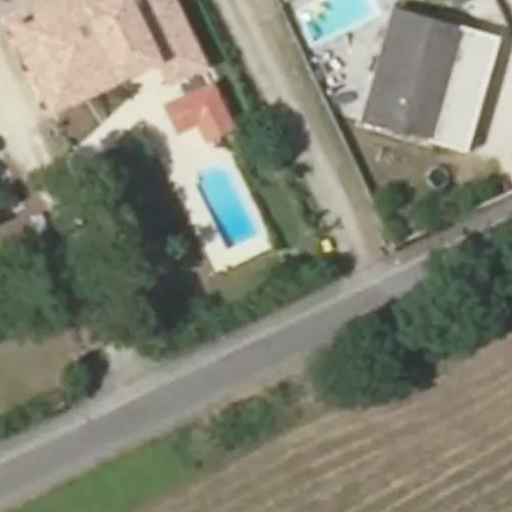pool: (218, 210, 290, 267)
